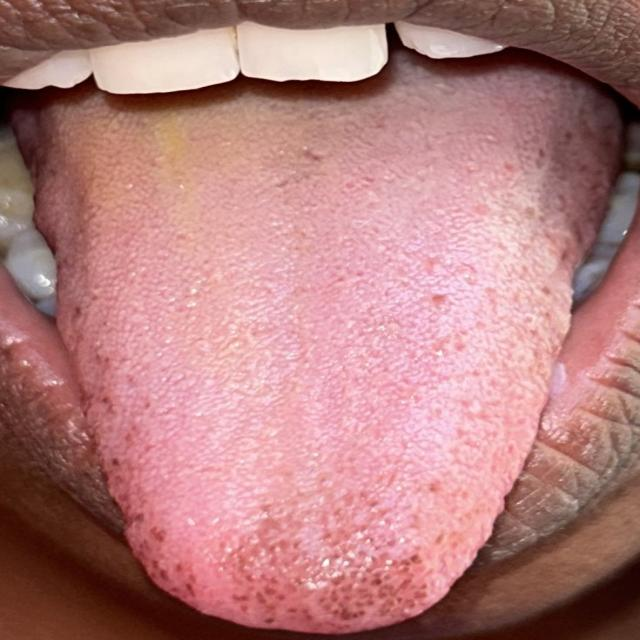processing_area: (0, 65, 612, 632)
